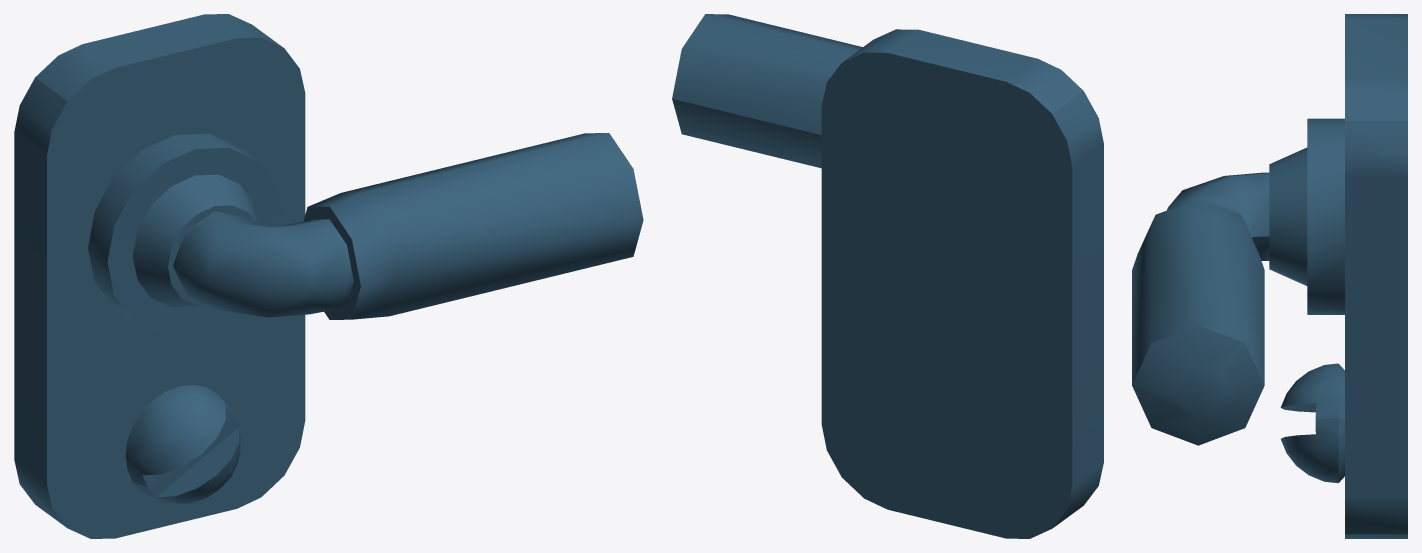
Rendered from obj_rewards_doorhandle.fbx.
3 renders of one model, left to right at view 1: azimuth 30°, elevation 25°; view 2: azimuth 150°, elevation 25°; view 3: azimuth 270°, elevation 25°, orthographic. The views are drawn at different scales.
Parts seen in each view (by area): view 1: part2_lp.001, part4_lp.001; view 2: part2_lp.001, part4_lp.001; view 3: part2_lp.001, part4_lp.001.
Boxes of the visible parts, x1,y1,x2,y2 form: part2_lp.001: (14, 14, 305, 538); part4_lp.001: (173, 133, 643, 319); part2_lp.001: (821, 29, 1103, 538); part4_lp.001: (672, 14, 862, 168); part2_lp.001: (1269, 14, 1407, 538); part4_lp.001: (1132, 172, 1269, 445).
Bounding box in the file's own units: 1.93 × 1.74 × 0.9573.
